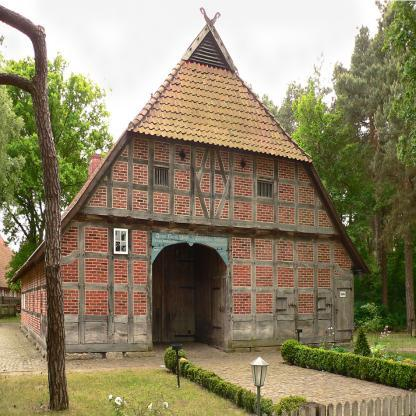Building Outline: (9, 6, 372, 362)
Dont: (0, 5, 70, 410)
Door: (152, 232, 195, 343), (334, 280, 351, 340), (277, 293, 294, 314), (317, 294, 331, 314)
Door Hole: (152, 242, 228, 356)
Facade: (55, 225, 354, 362)
Floor Slab: (68, 213, 341, 240)
Ground Floor: (55, 220, 354, 362)
Roof: (126, 60, 314, 163)
Top Floor: (68, 131, 341, 235)
Window: (113, 228, 128, 255), (153, 166, 169, 188), (257, 180, 274, 200)
